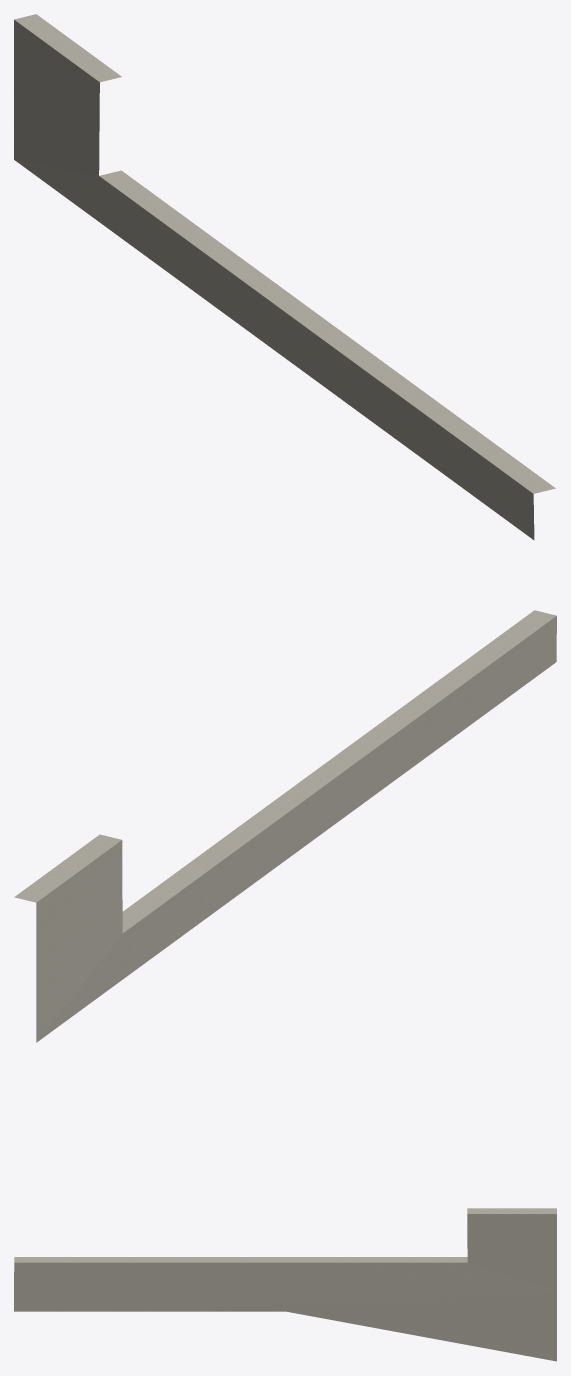
The model's file is kd_stage_135ebf_0_57_bounded.glb.
The picture shows the model from 3 angles, top to bottom: view 1: azimuth 30°, elevation 25°; view 2: azimuth 150°, elevation 25°; view 3: azimuth 270°, elevation 25°; orthographic projection. The views are drawn at different scales.
Visible parts, largest first — view 1: kd_stage_135ebf_0_57_bounded; view 2: kd_stage_135ebf_0_57_bounded; view 3: kd_stage_135ebf_0_57_bounded.
Boxes of the visible parts, <box> form: kd_stage_135ebf_0_57_bounded: <box>14,14,555,539</box>; kd_stage_135ebf_0_57_bounded: <box>14,610,556,1042</box>; kd_stage_135ebf_0_57_bounded: <box>14,1208,556,1361</box>.
Bounding box in the file's own units: 0.1556 × 1.81 × 6.06.
Materials: 1 (1 with a texture image).
